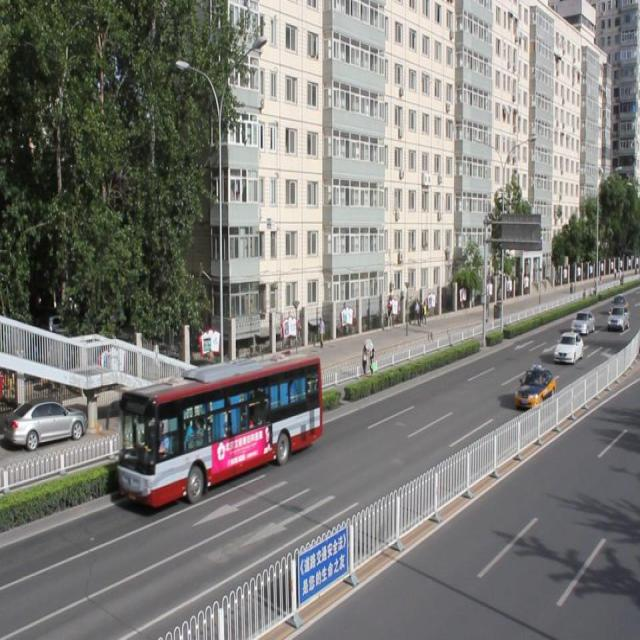car: (512, 364, 556, 408), (552, 329, 582, 362)
van: (120, 353, 319, 505)
